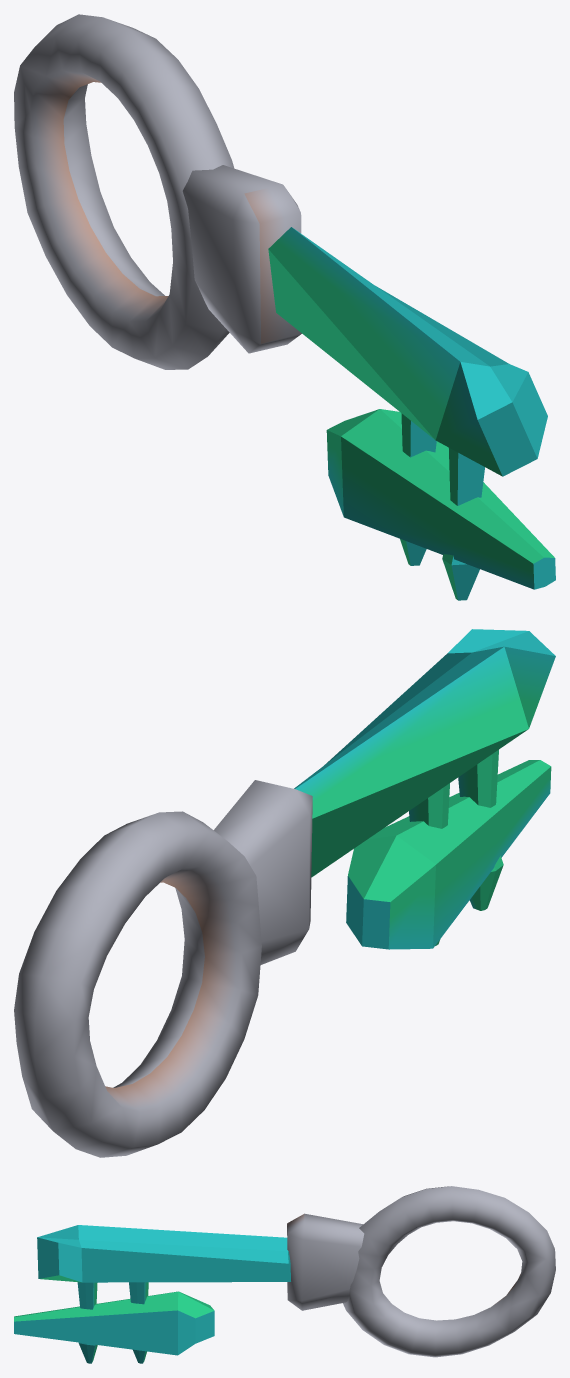
The model's file is clef cristaux.fbx.
3 views of the same model, one above another, from view 1: azimuth 30°, elevation 25°; view 2: azimuth 150°, elevation 25°; view 3: azimuth 270°, elevation 25° (orthographic). The views are drawn at different scales.
Parts seen in each view (by area): view 1: clef cristaux; view 2: clef cristaux; view 3: clef cristaux.
Boxes of the visible parts, x1=… form: clef cristaux: x1=14, y1=14, x2=555, y2=600; clef cristaux: x1=14, y1=629, x2=555, y2=1157; clef cristaux: x1=14, y1=1186, x2=555, y2=1363.
Size of the model in its own units: 13.14 by 42.15 by 118.
